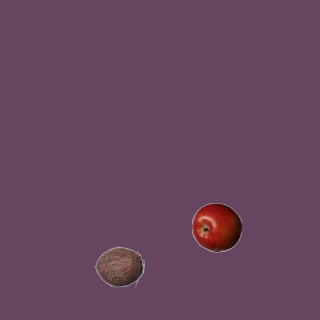Apple Braeburn: (191, 202, 241, 252)
Cocos: (94, 241, 144, 291)
